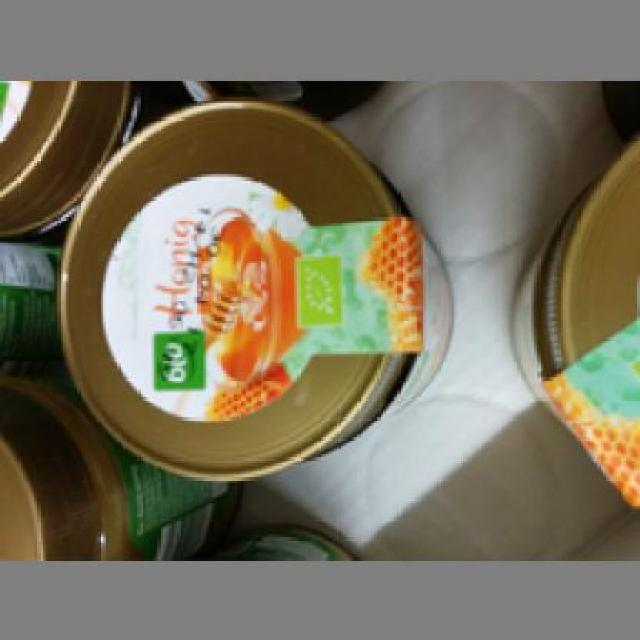Honey: (37, 97, 466, 483)
